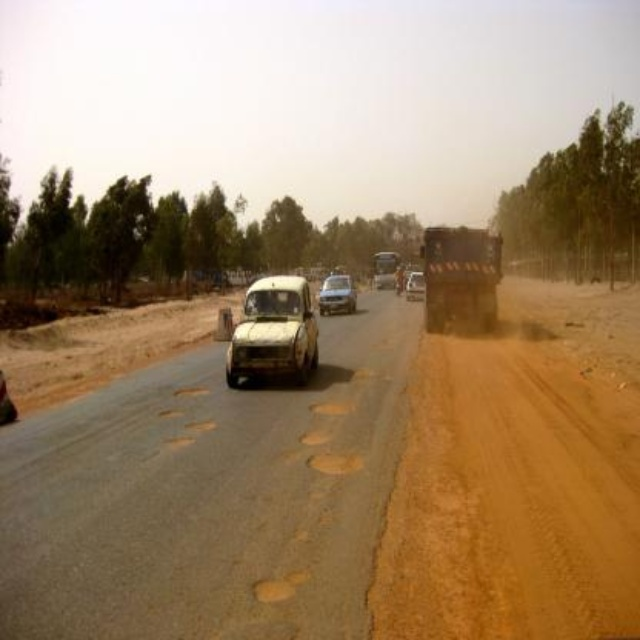Car: (226, 275, 319, 390), (321, 275, 356, 316), (407, 273, 428, 301), (404, 264, 424, 273)
